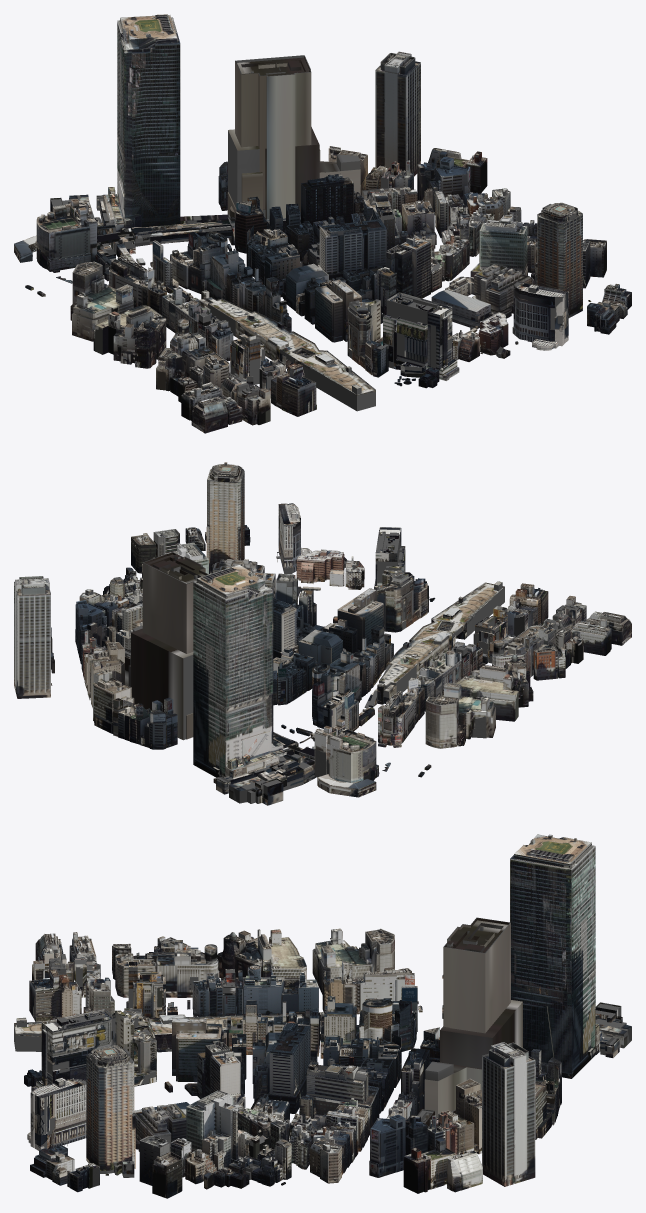
File: 53393596_bldg_6697_1_op.fbx
3 renders of one model, top to bottom at view 1: azimuth 30°, elevation 25°; view 2: azimuth 150°, elevation 25°; view 3: azimuth 270°, elevation 25°, orthographic. The views are drawn at different scales.
Parts seen in each view (by area): view 1: bldg_fe130c3a-406c-492d-a83b-e4c8a6c1fbca, bldg_abeeafe6-d2e4-4be3-a046-197e604a40eb, bldg_1bcc45dc-cbed-4241-a0e2-8ee256ca81ed, bldg_8c6980dc-b201-4b97-a111-e3b06e8eb979, bldg_eb2b4968-9486-4b8c-96f7-c0986f731ef8, bldg_7154fc4c-3b74-4451-b6e8-dd0d39c9b853, bldg_0cb9136e-1bf2-4059-b543-ce6df295826e, bldg_f4e4f8ae-84f0-423d-89d4-7d77ccf83335, bldg_ddb5266f-0732-41a0-89a3-594387b6bd43, bldg_8caf68e0-4dc2-4a2f-87ca-751ec8e98190, bldg_2503d48c-6411-43f6-a0f6-548d1f76732c, bldg_8e1fc955-5576-4b91-9fa8-0833d7542243 (+37 smaller); view 2: bldg_fe130c3a-406c-492d-a83b-e4c8a6c1fbca, bldg_abeeafe6-d2e4-4be3-a046-197e604a40eb, bldg_1bcc45dc-cbed-4241-a0e2-8ee256ca81ed, bldg_eb2b4968-9486-4b8c-96f7-c0986f731ef8, bldg_7154fc4c-3b74-4451-b6e8-dd0d39c9b853, bldg_ddb5266f-0732-41a0-89a3-594387b6bd43, bldg_0cb9136e-1bf2-4059-b543-ce6df295826e, bldg_bb8fd5e5-6a1f-4b9e-955d-857147e94608, bldg_b10eadb3-9b1c-42c3-917e-f5c0fbdd6701, bldg_4396e0ad-572b-45a4-a528-6498b4c4c711, bldg_c114d150-9d58-4016-af5f-7ad2910a2c5b, bldg_d26c65f2-21a4-42f1-9f23-8f218b9a6efe (+32 smaller); view 3: bldg_fe130c3a-406c-492d-a83b-e4c8a6c1fbca, bldg_abeeafe6-d2e4-4be3-a046-197e604a40eb, bldg_eb2b4968-9486-4b8c-96f7-c0986f731ef8, bldg_7154fc4c-3b74-4451-b6e8-dd0d39c9b853, bldg_8c6980dc-b201-4b97-a111-e3b06e8eb979, bldg_8caf68e0-4dc2-4a2f-87ca-751ec8e98190, bldg_f4e4f8ae-84f0-423d-89d4-7d77ccf83335, bldg_4774966d-c767-4f57-a37d-00f8d254793c, bldg_d5dcfe47-395f-4069-ad81-a0021f072eb7, bldg_2503d48c-6411-43f6-a0f6-548d1f76732c, bldg_b10eadb3-9b1c-42c3-917e-f5c0fbdd6701, bldg_15d9540f-9b65-4242-be21-084ba2c0e030 (+51 smaller).
Boxes of the visible parts, bbox=[...] form: bldg_fe130c3a-406c-492d-a83b-e4c8a6c1fbca: bbox=[103, 14, 180, 232]; bldg_abeeafe6-d2e4-4be3-a046-197e604a40eb: bbox=[180, 55, 401, 223]; bldg_1bcc45dc-cbed-4241-a0e2-8ee256ca81ed: bbox=[199, 290, 375, 411]; bldg_8c6980dc-b201-4b97-a111-e3b06e8eb979: bbox=[383, 292, 459, 380]; bldg_eb2b4968-9486-4b8c-96f7-c0986f731ef8: bbox=[375, 51, 420, 176]; bldg_7154fc4c-3b74-4451-b6e8-dd0d39c9b853: bbox=[535, 202, 582, 317]; bldg_0cb9136e-1bf2-4059-b543-ce6df295826e: bbox=[36, 199, 96, 272]; bldg_f4e4f8ae-84f0-423d-89d4-7d77ccf83335: bbox=[317, 219, 386, 280]; bldg_ddb5266f-0732-41a0-89a3-594387b6bd43: bbox=[50, 194, 300, 260]; bldg_8caf68e0-4dc2-4a2f-87ca-751ec8e98190: bbox=[512, 281, 568, 350]; bldg_2503d48c-6411-43f6-a0f6-548d1f76732c: bbox=[470, 214, 527, 277]; bldg_8e1fc955-5576-4b91-9fa8-0833d7542243: bbox=[301, 173, 353, 229]; bldg_fe130c3a-406c-492d-a83b-e4c8a6c1fbca: bbox=[193, 565, 286, 778]; bldg_abeeafe6-d2e4-4be3-a046-197e604a40eb: bbox=[106, 552, 208, 740]; bldg_1bcc45dc-cbed-4241-a0e2-8ee256ca81ed: bbox=[364, 581, 504, 708]; bldg_eb2b4968-9486-4b8c-96f7-c0986f731ef8: bbox=[14, 576, 52, 698]; bldg_7154fc4c-3b74-4451-b6e8-dd0d39c9b853: bbox=[206, 462, 244, 573]; bldg_ddb5266f-0732-41a0-89a3-594387b6bd43: bbox=[213, 732, 316, 805]; bldg_0cb9136e-1bf2-4059-b543-ce6df295826e: bbox=[314, 719, 379, 783]; bldg_bb8fd5e5-6a1f-4b9e-955d-857147e94608: bbox=[456, 665, 518, 721]; bldg_b10eadb3-9b1c-42c3-917e-f5c0fbdd6701: bbox=[374, 566, 413, 632]; bldg_4396e0ad-572b-45a4-a528-6498b4c4c711: bbox=[425, 695, 458, 748]; bldg_c114d150-9d58-4016-af5f-7ad2910a2c5b: bbox=[442, 682, 495, 739]; bldg_d26c65f2-21a4-42f1-9f23-8f218b9a6efe: bbox=[93, 668, 134, 733]; bldg_fe130c3a-406c-492d-a83b-e4c8a6c1fbca: bbox=[510, 834, 602, 1078]; bldg_abeeafe6-d2e4-4be3-a046-197e604a40eb: bbox=[417, 917, 522, 1127]; bldg_eb2b4968-9486-4b8c-96f7-c0986f731ef8: bbox=[482, 1042, 535, 1186]; bldg_7154fc4c-3b74-4451-b6e8-dd0d39c9b853: bbox=[86, 1045, 135, 1177]; bldg_8c6980dc-b201-4b97-a111-e3b06e8eb979: bbox=[31, 1009, 115, 1091]; bldg_8caf68e0-4dc2-4a2f-87ca-751ec8e98190: bbox=[27, 1077, 86, 1150]; bldg_f4e4f8ae-84f0-423d-89d4-7d77ccf83335: bbox=[268, 1022, 310, 1113]; bldg_4774966d-c767-4f57-a37d-00f8d254793c: bbox=[299, 1061, 377, 1129]; bldg_d5dcfe47-395f-4069-ad81-a0021f072eb7: bbox=[147, 940, 219, 997]; bldg_2503d48c-6411-43f6-a0f6-548d1f76732c: bbox=[186, 1090, 242, 1167]; bldg_b10eadb3-9b1c-42c3-917e-f5c0fbdd6701: bbox=[112, 1008, 156, 1086]; bldg_15d9540f-9b65-4242-be21-084ba2c0e030: bbox=[172, 1018, 222, 1082].
Bounding box in the file's own units: 566 × 233 × 596.
